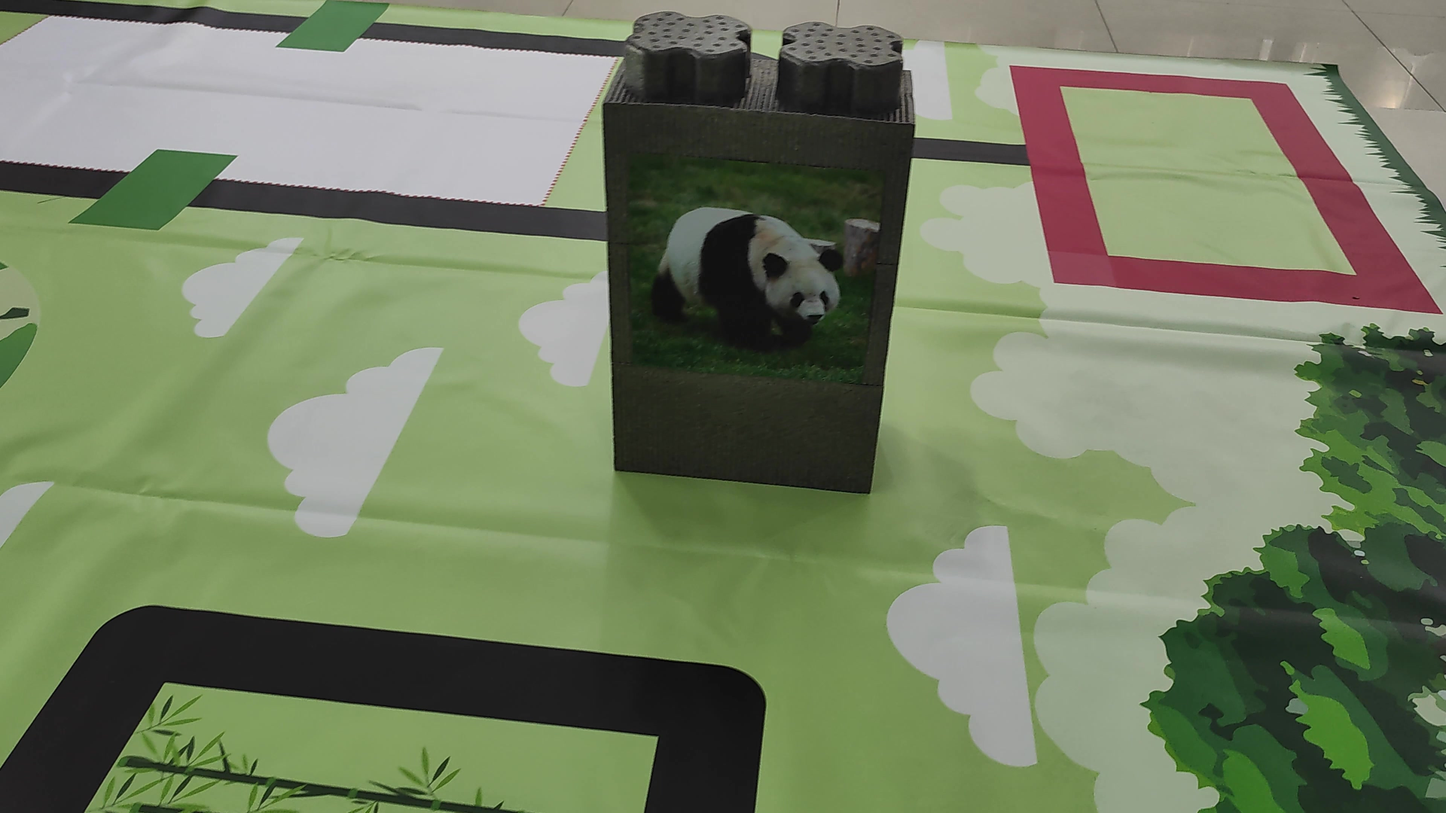panda: (636, 173, 851, 356)
